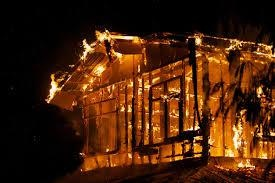fire: (77, 25, 251, 165)
